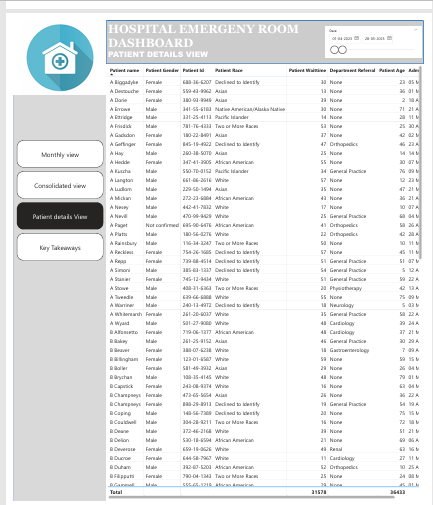

Layout of this report page (visuals, bound fields, positions):
{"tool":"powerbi","page":{"name":"Patient details View ","canvas":[1280,1500],"ordinal":2},"visuals":[{"type":"shape","box":[0,0,290,2400],"z":1000},{"type":"shape","box":[290,0,990,135],"z":2000},{"type":"textbox","box":[290,0,692.5,135],"z":3000},{"type":"image","box":[0,0,290,232.2],"z":25000},{"type":"slicer","fields":{"Values":["Date Table.Date"]},"box":[973.8,18.8,300,97.5],"z":30000},{"type":"tableEx","fields":{"Values":["Hospital ER_Data.Patient Full name","Hospital ER_Data.Patient Gender","Hospital ER_Data.Patient Id","Hospital ER_Data.Patient Race","Sum(Hospital ER_Data.Patient Waittime)","Hospital ER_Data.Department Referral","Sum(Hospital ER_Data.Patient Age)","Hospital ER_Data.admission date"]},"box":[290,136,990,1364],"z":30001},{"type":"pageNavigator","box":[10,374,270,376],"z":30002}]}

Visuals, with their boxes on the page's 1280x1500 design canvas (x1, y1, x2, y2). These are canvas units, not pixel positions in the 433x505 screenshot, which may show the page scaled, cropped or inside an application window:
shape: (0,0,290,2400)
shape: (290,0,1280,135)
textbox: (290,0,982,135)
image: (0,0,290,232)
slicer - Date Table.Date: (974,19,1274,116)
tableEx - Hospital ER_Data.Patient Full name x Hospital ER_Data.Patient Gender: (290,136,1280,1500)
pageNavigator: (10,374,280,750)
